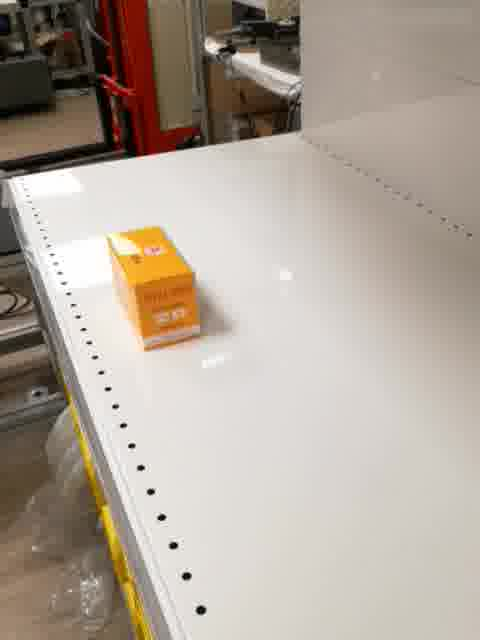jasminetea: (103, 223, 208, 352)
